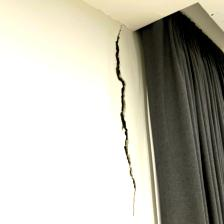High: (107, 21, 146, 223)
